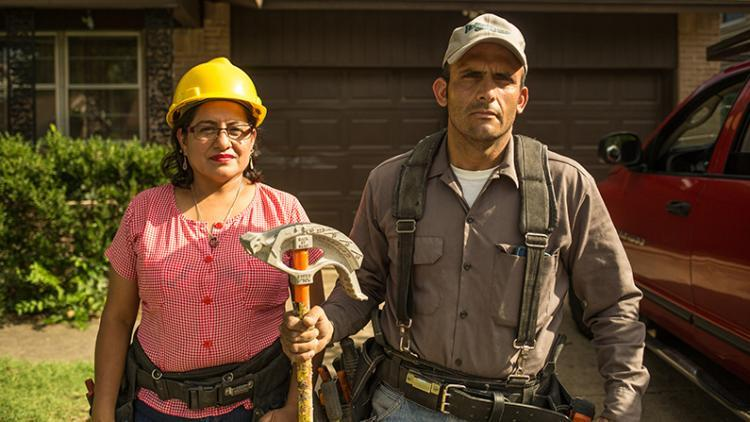helmet: (165, 57, 269, 122)
